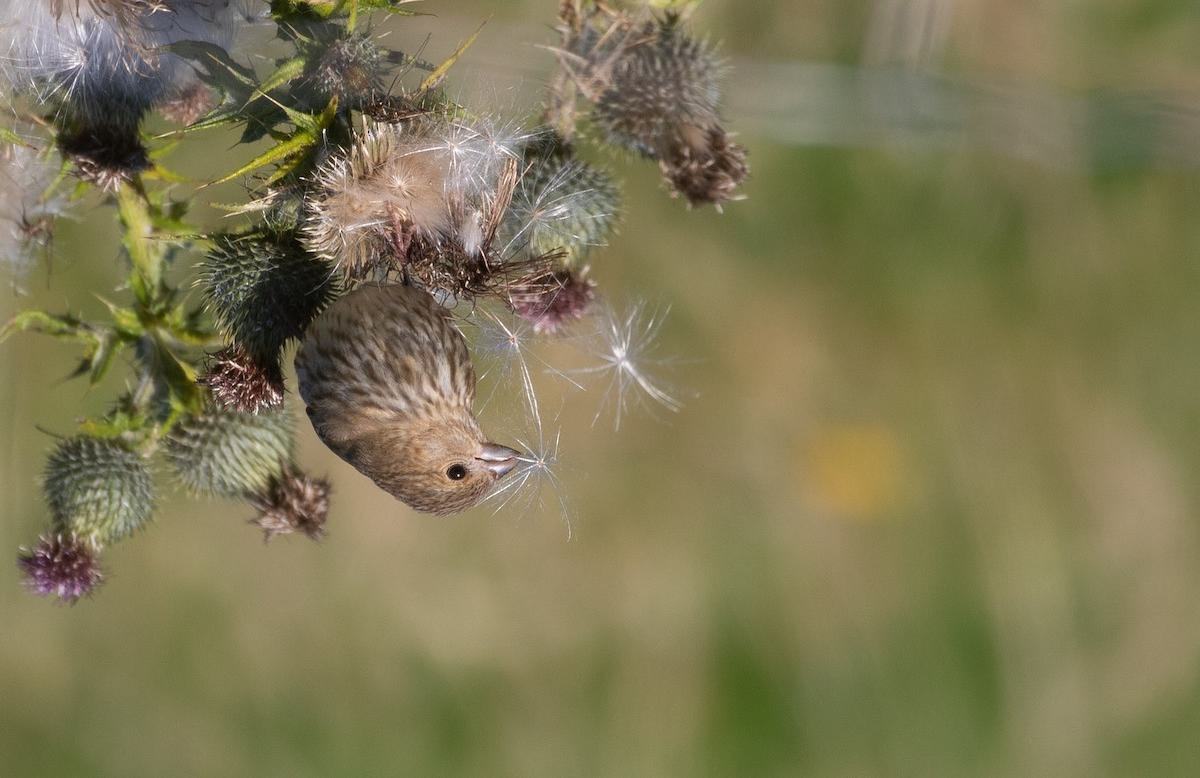rosefinch: (289, 255, 541, 510)
